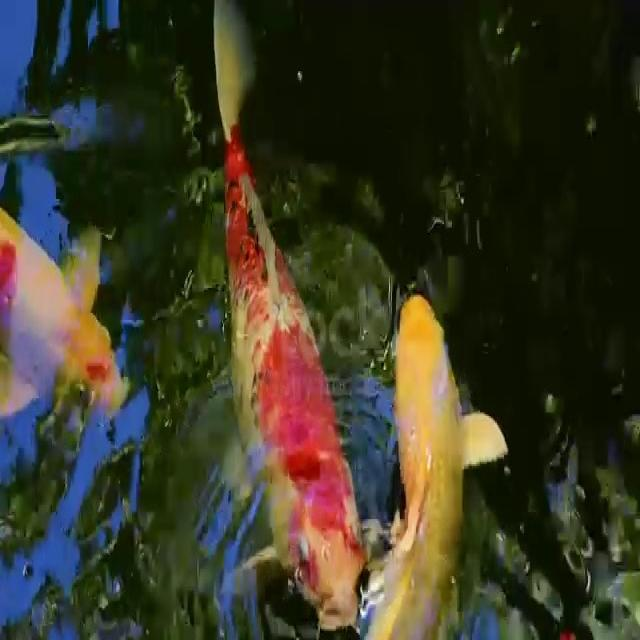fish: (207, 0, 363, 640), (371, 276, 508, 640), (0, 186, 128, 453)
